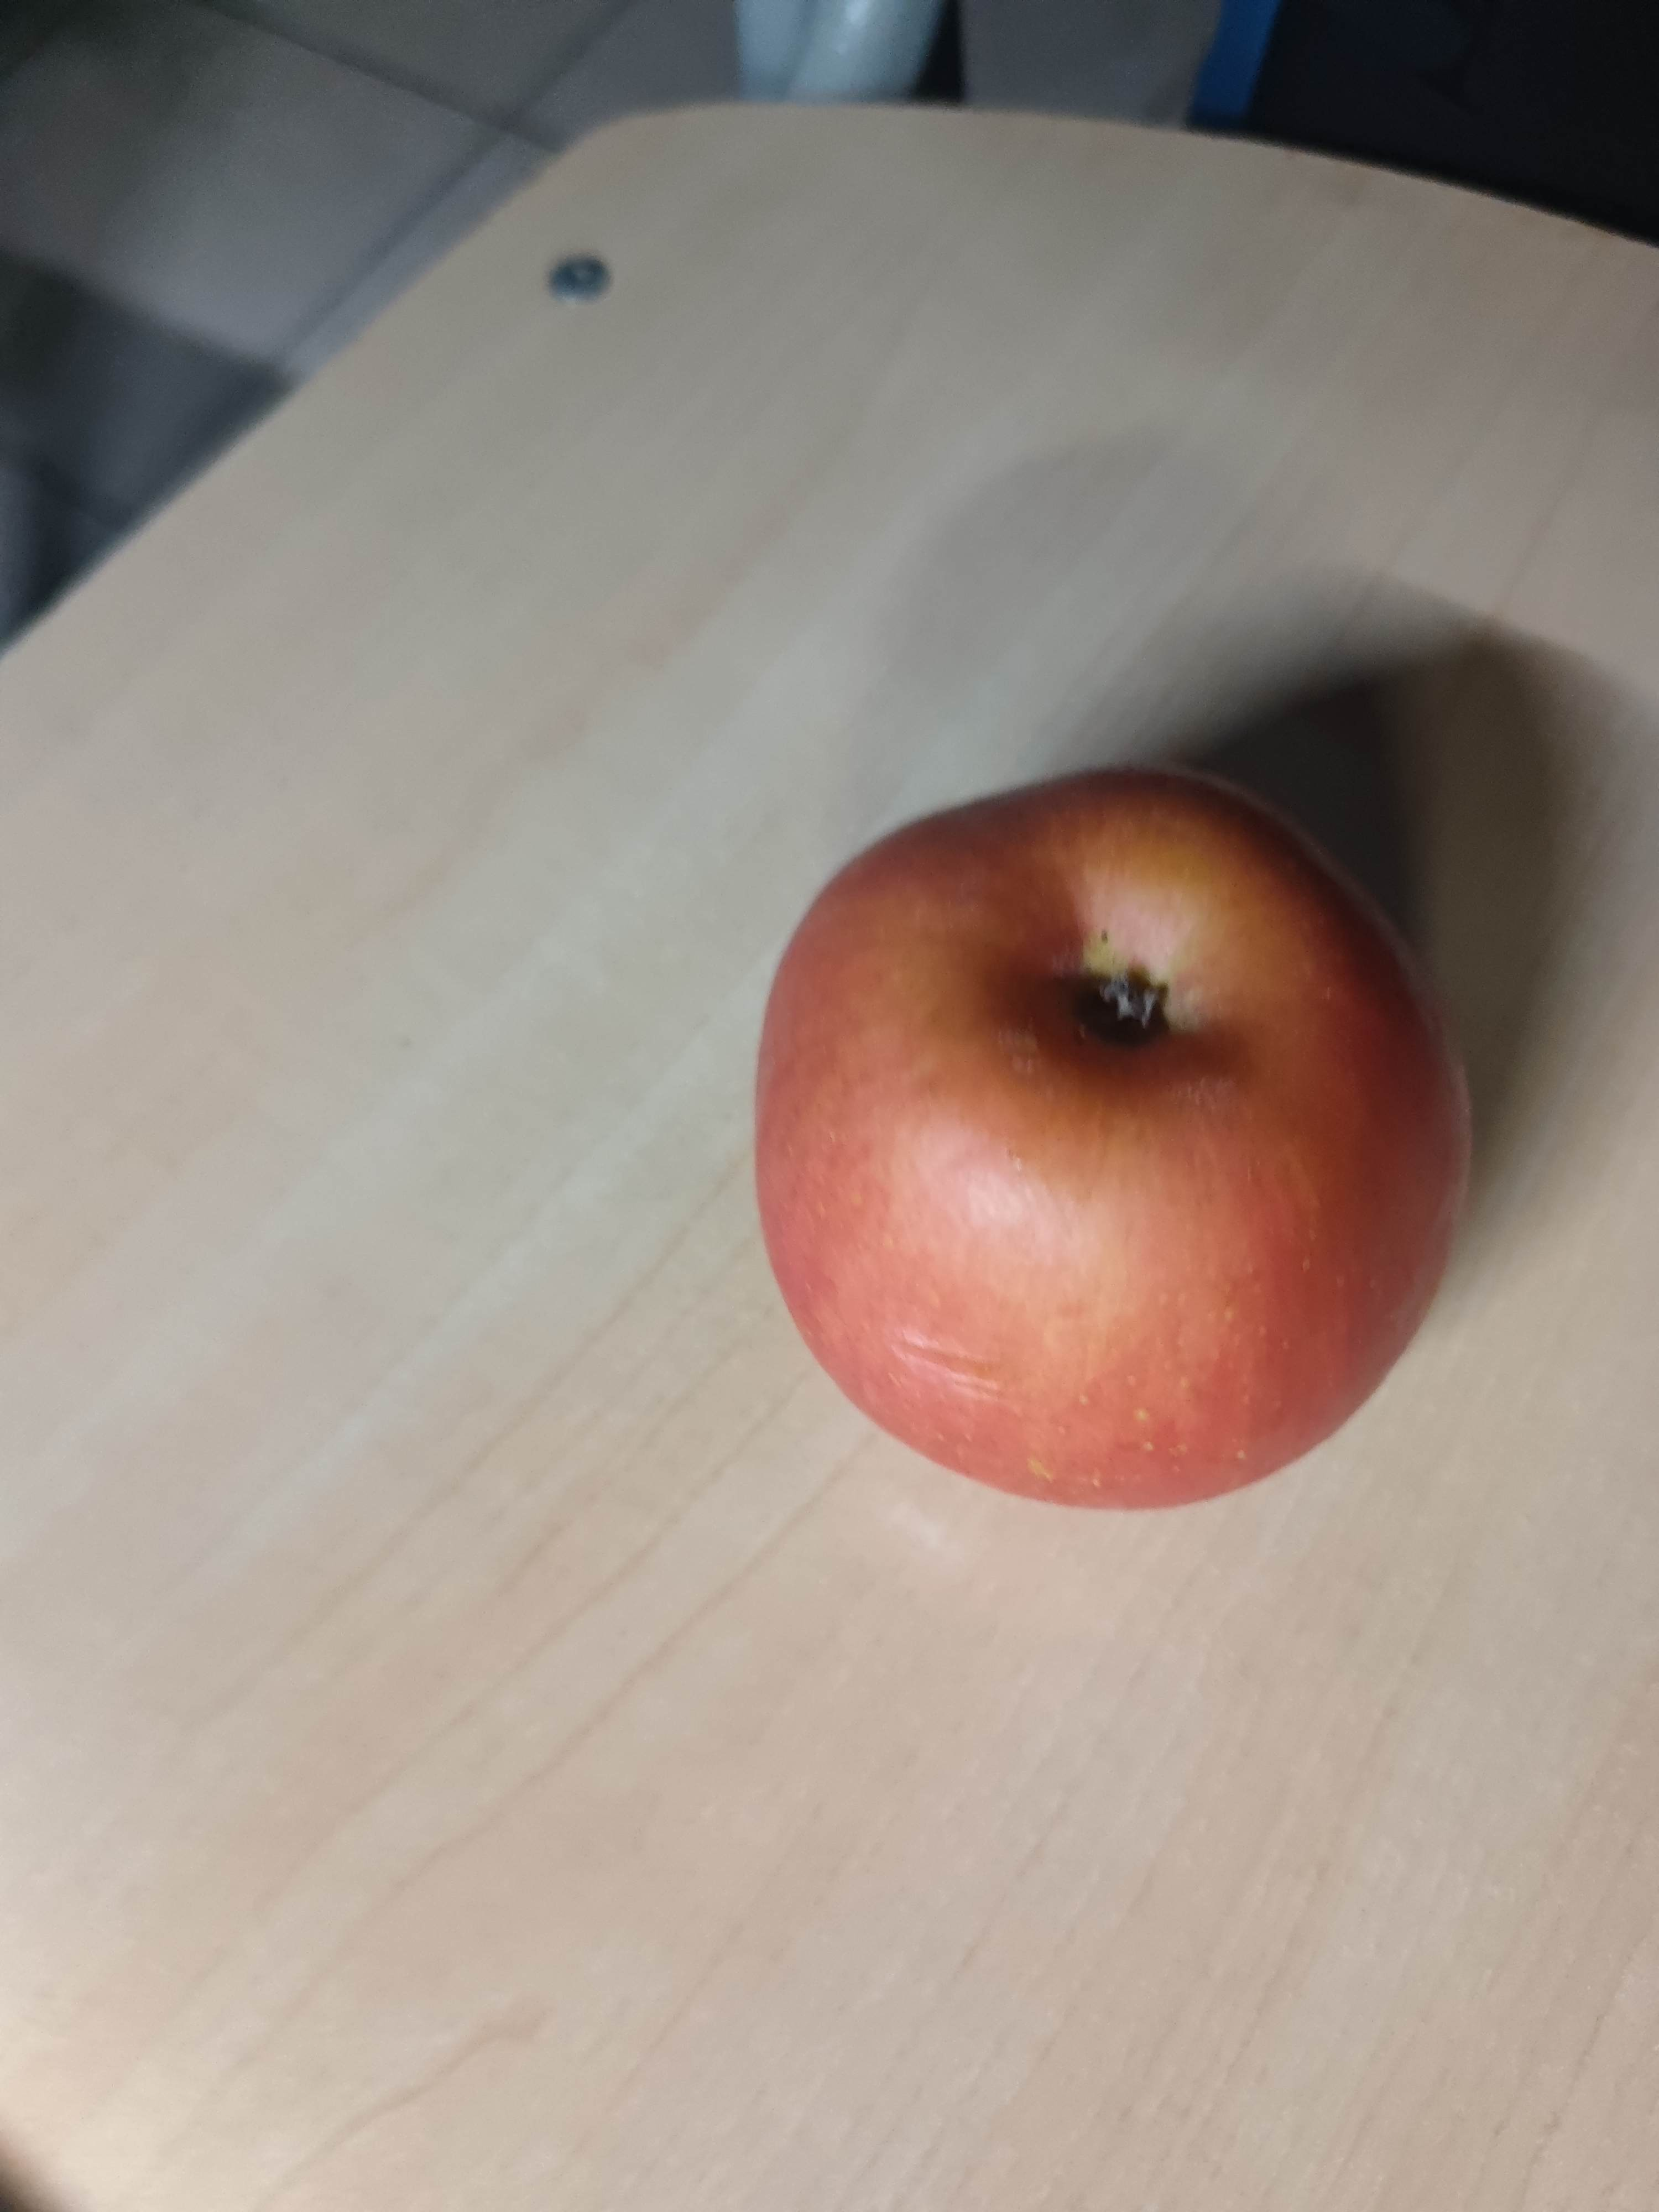apple: (758, 761, 1490, 1514)
